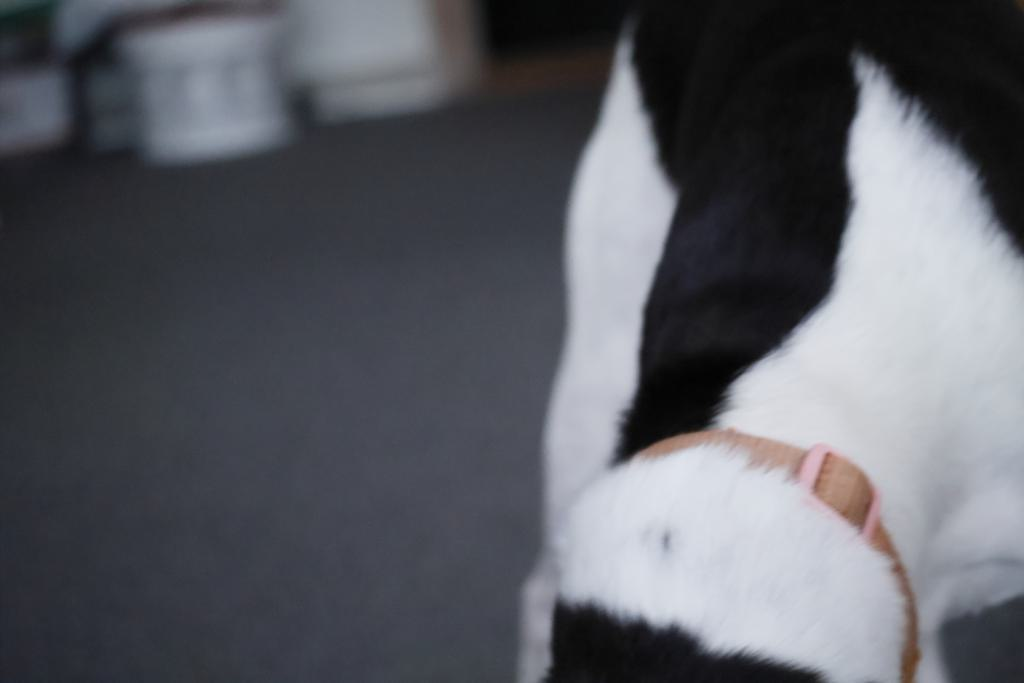Dog: (464, 0, 1024, 683)
